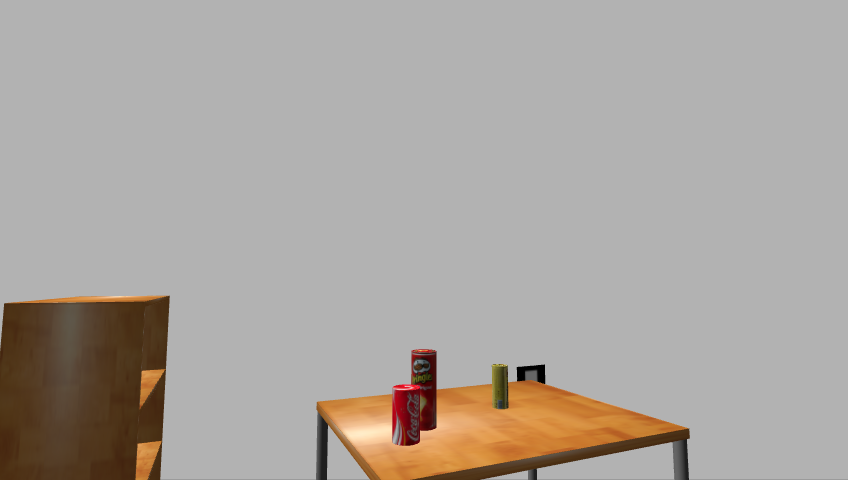aruco marker: (512, 364, 549, 388)
biscuits pack: (491, 364, 509, 411)
bookshelf: (0, 294, 177, 480)
coke can: (389, 384, 425, 446)
dinner table: (306, 380, 699, 480)
pringles can: (408, 348, 440, 433)
